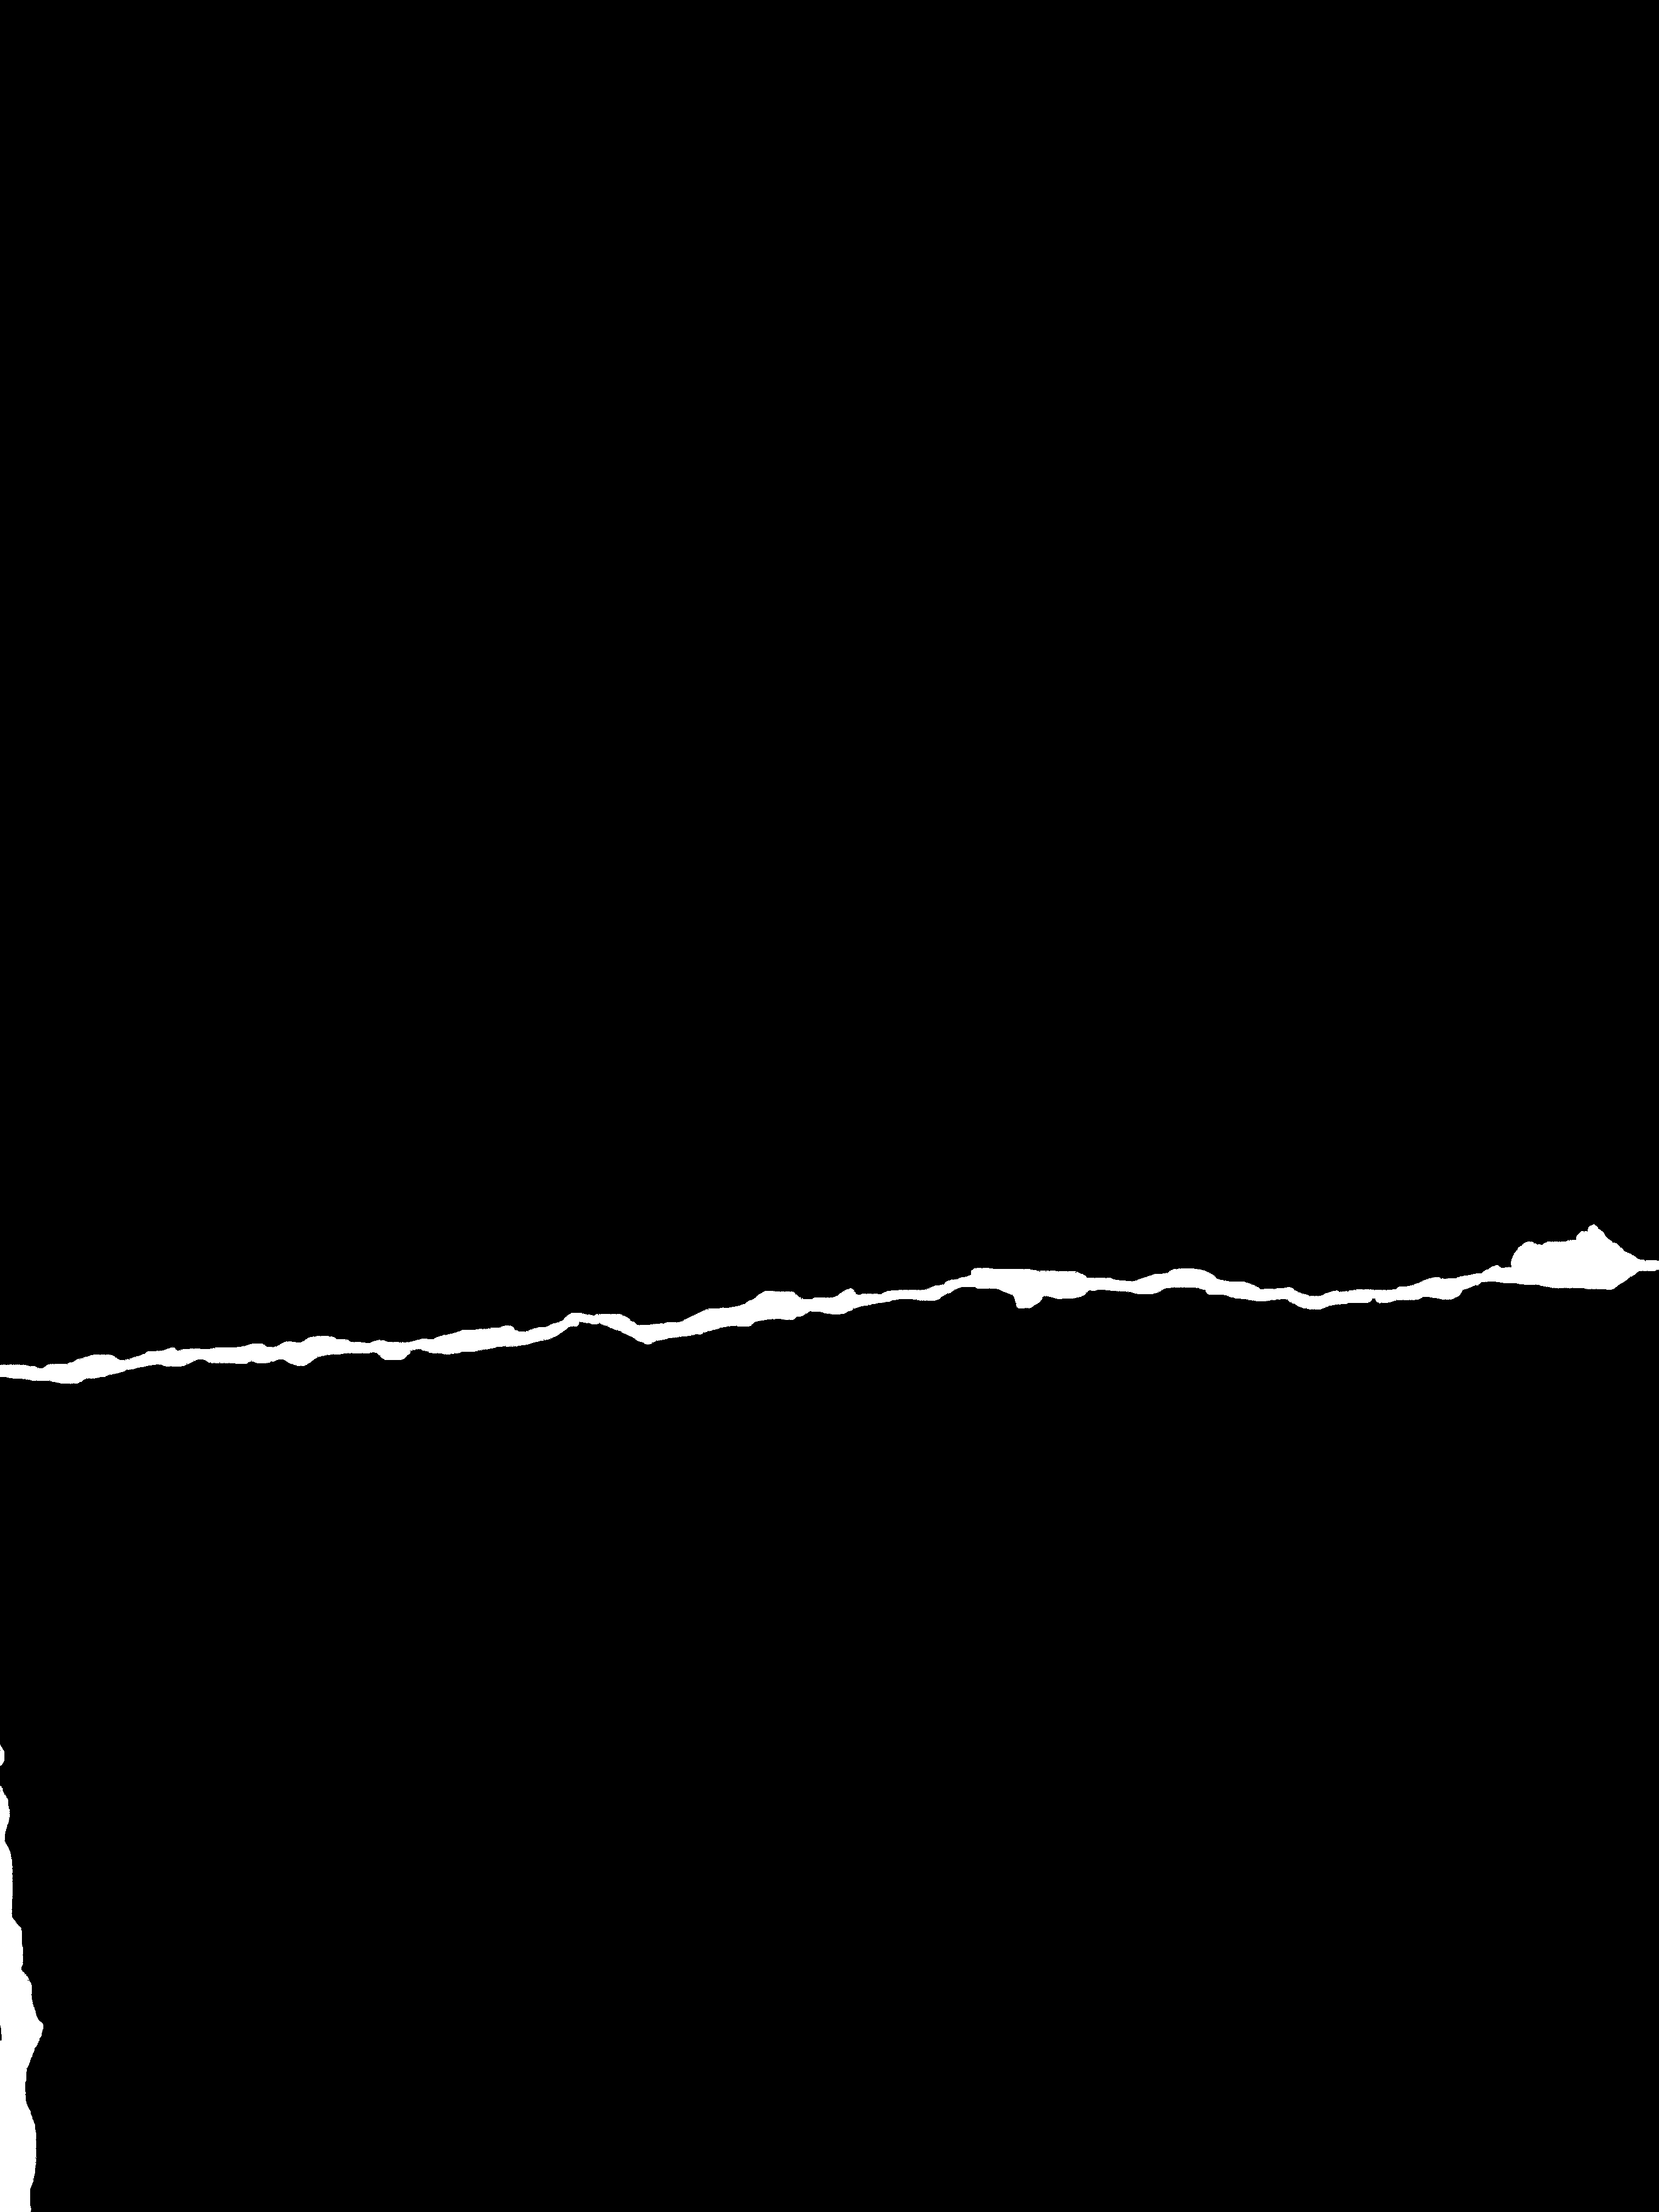Crack: (0, 1200, 1659, 1409)
